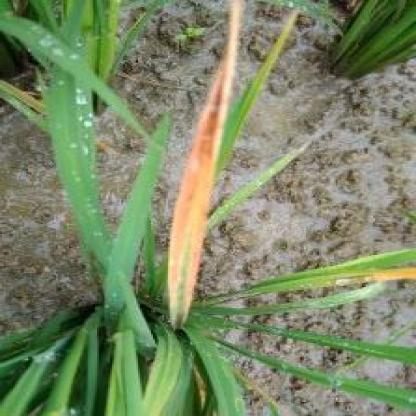Tungro: (165, 5, 236, 333)
